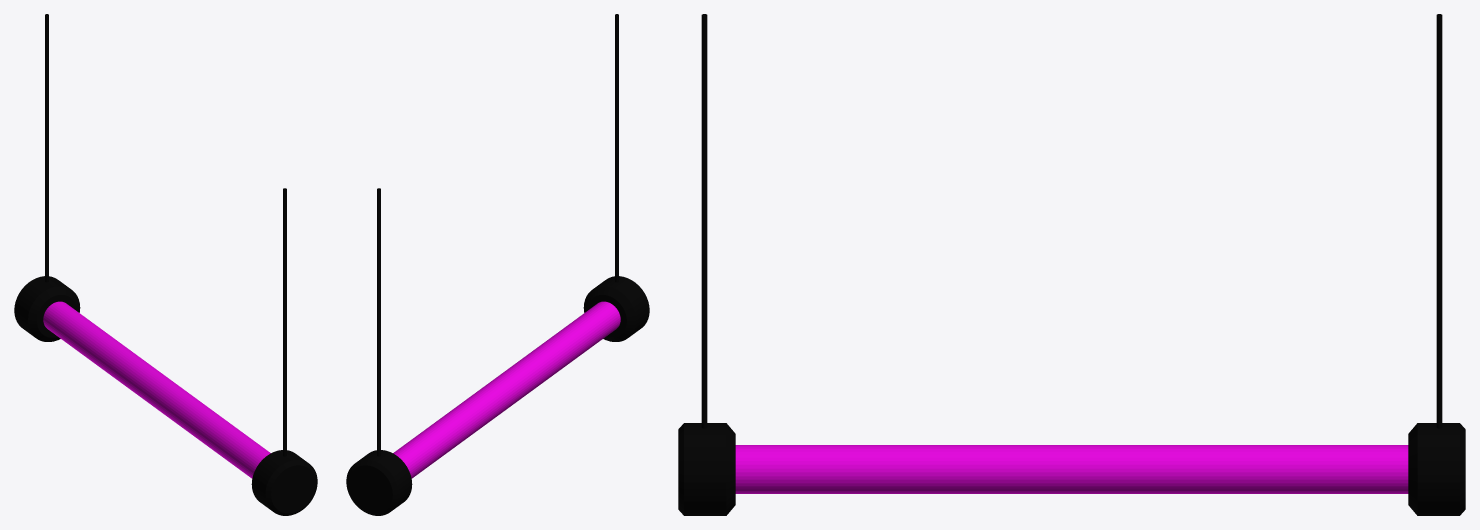
Rendered from CellingLight.fbx.
3 views of the same model, side by side, from view 1: azimuth 30°, elevation 25°; view 2: azimuth 150°, elevation 25°; view 3: azimuth 270°, elevation 25° (orthographic). The views are drawn at different scales.
Visible parts, largest first — view 1: Cylinder; view 2: Cylinder; view 3: Cylinder.
Boxes of the visible parts, <box> form: Cylinder: <box>14,14,317,515</box>; Cylinder: <box>346,14,649,515</box>; Cylinder: <box>678,14,1465,515</box>.
Size of the model in its own units: 380 by 2232 by 3209.
